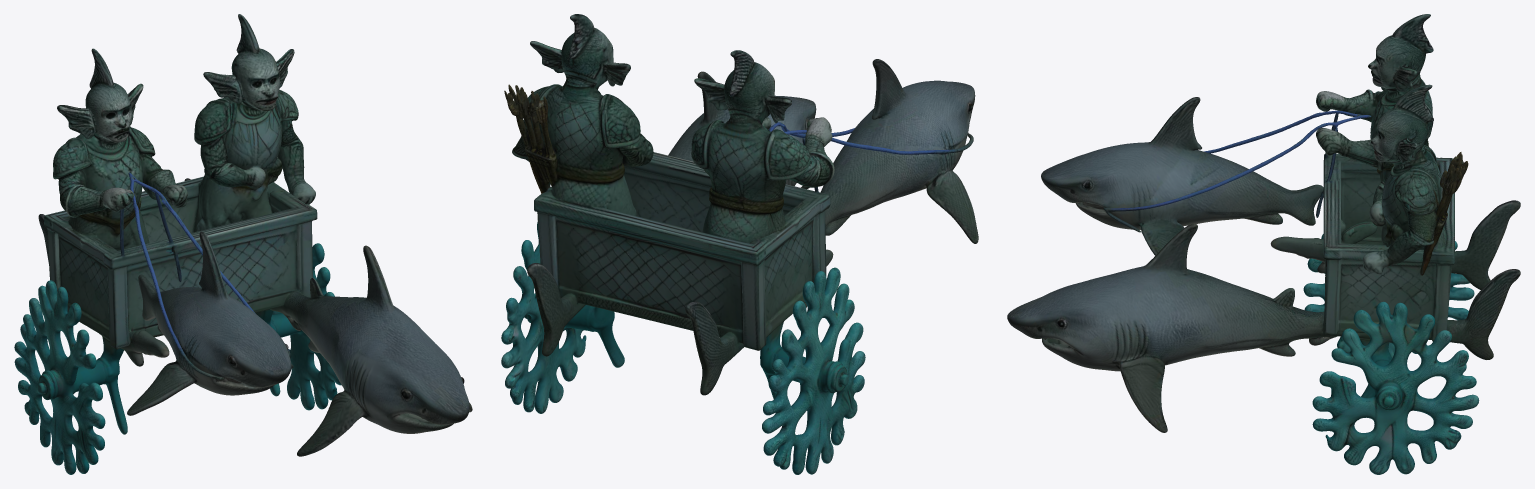
The picture shows the model from 3 angles, left to right: view 1: azimuth 30°, elevation 25°; view 2: azimuth 150°, elevation 25°; view 3: azimuth 270°, elevation 25°; orthographic projection. The views are drawn at different scales.
Parts seen in each view (by area): view 1: tripo_node_c5e5d5dc-99d0-4897-bf42-be8bde91a324; view 2: tripo_node_c5e5d5dc-99d0-4897-bf42-be8bde91a324; view 3: tripo_node_c5e5d5dc-99d0-4897-bf42-be8bde91a324.
Boxes of the visible parts, bbox=[...] form: tripo_node_c5e5d5dc-99d0-4897-bf42-be8bde91a324: bbox=[14, 14, 472, 474]; tripo_node_c5e5d5dc-99d0-4897-bf42-be8bde91a324: bbox=[501, 14, 978, 474]; tripo_node_c5e5d5dc-99d0-4897-bf42-be8bde91a324: bbox=[1007, 14, 1520, 474].
Bounding box in the file's own units: 0.7246 × 0.8025 × 1.
Materials: 1 (1 with a texture image).
